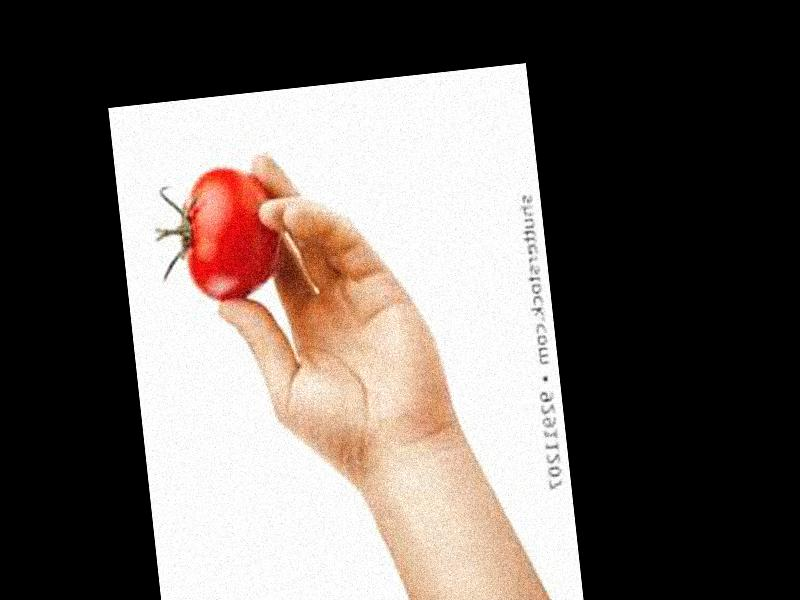Tomato: (177, 161, 288, 305)
